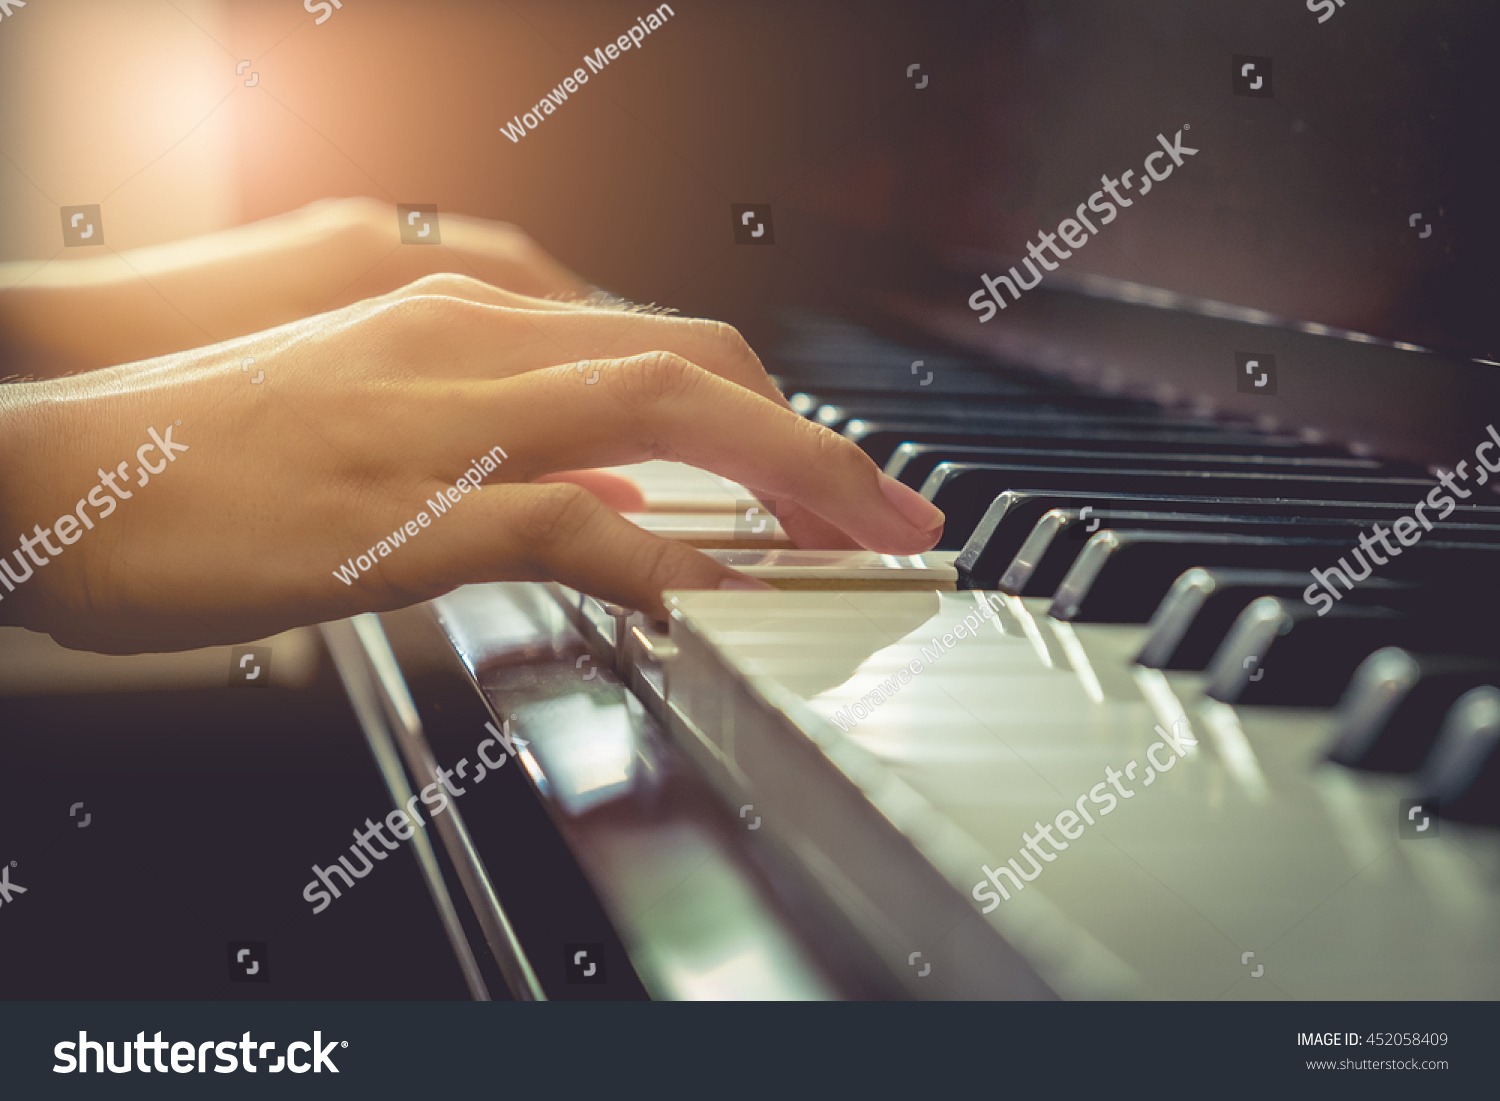Piano: (255, 90, 1500, 1080)
